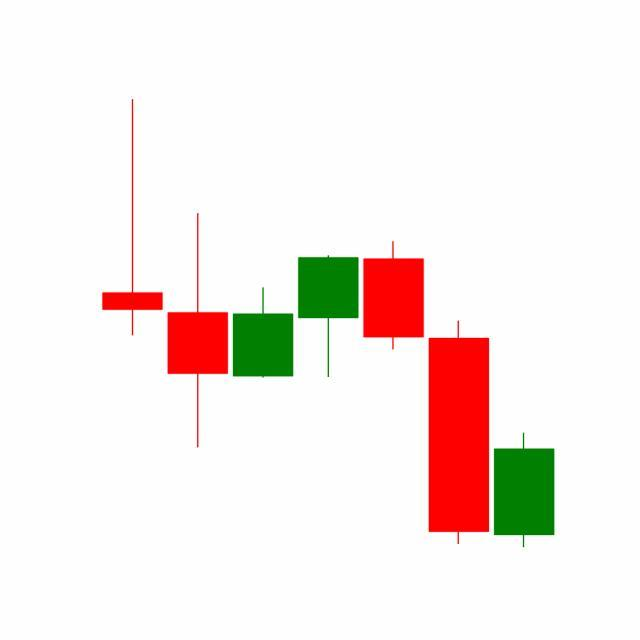Hikkake Pattern: (165, 210, 492, 548)
